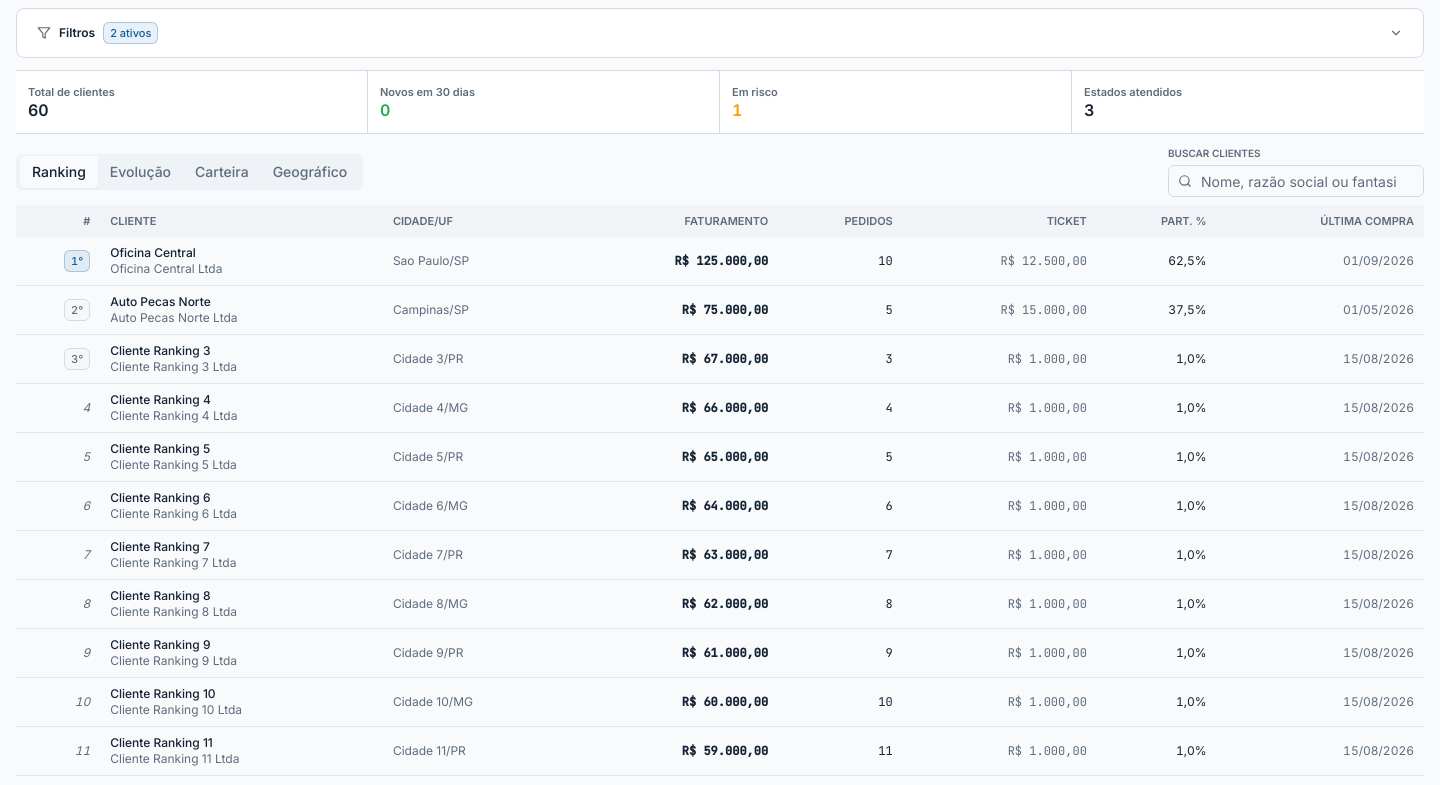
ClientesPage compacta › mantem somente o TabsContent ativo participando do layout
Press the mouse on the tab "Evolução" at (140, 172), box [98,156,183,188]
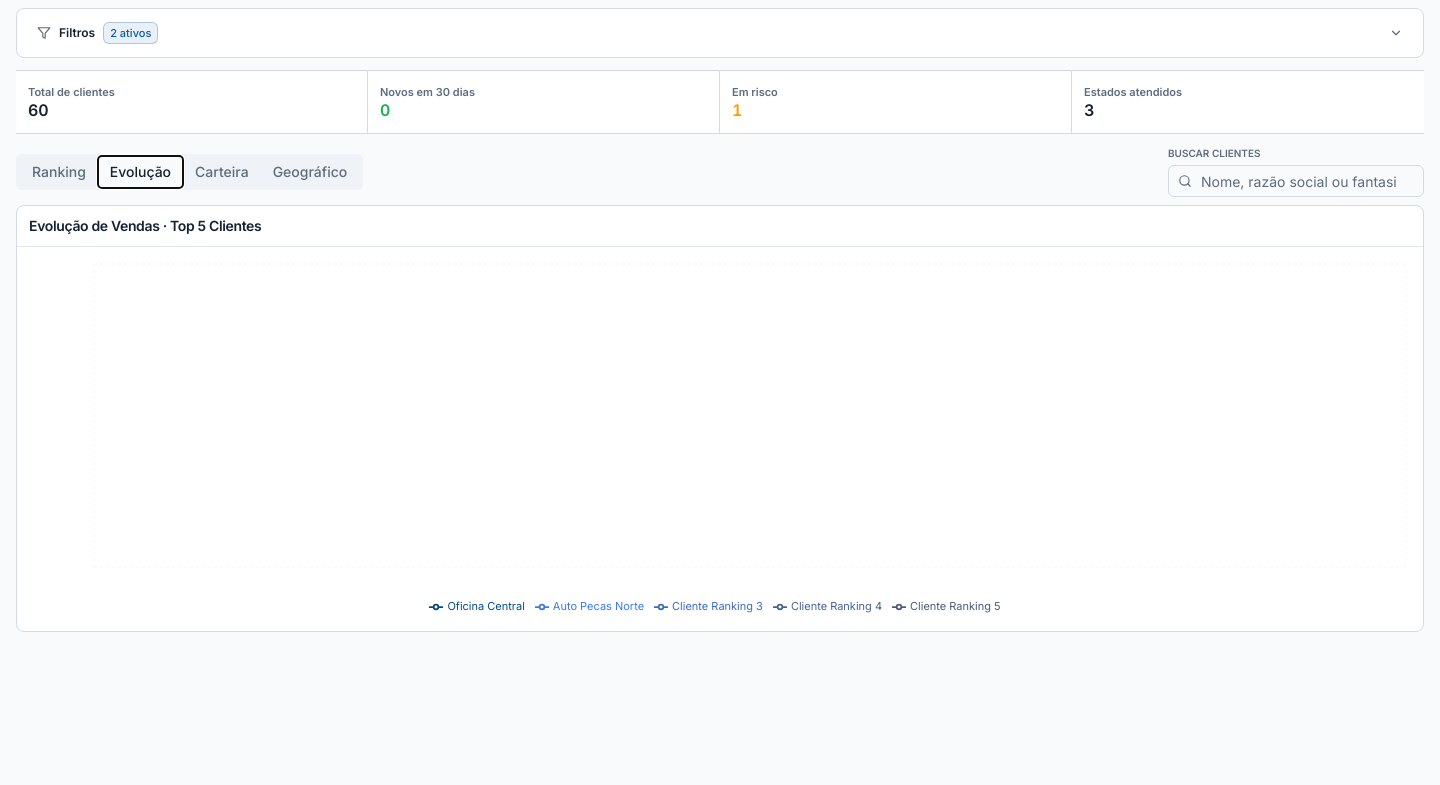
Check: the number of panels is 1, box [16,205,1424,632]
